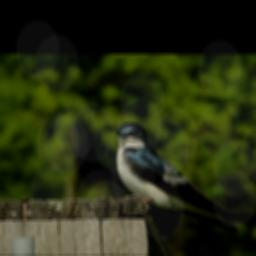Swallow: (114, 121, 245, 233)
